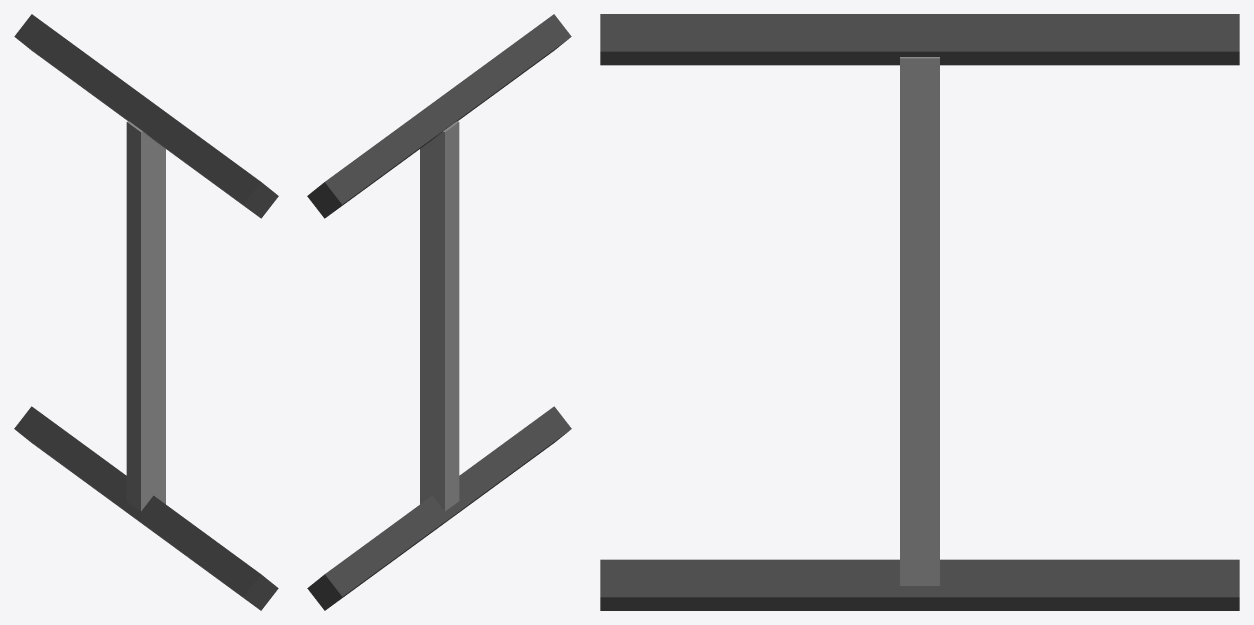
The model's file is testconnection.obj.
The picture shows the model from 3 angles, left to right: view 1: azimuth 30°, elevation 25°; view 2: azimuth 150°, elevation 25°; view 3: azimuth 270°, elevation 25°; orthographic projection. The views are drawn at different scales.
Parts seen in each view (by area): view 1: bar, high, low; view 2: bar, high, low; view 3: high, low, bar.
Part boxes in pixels (x1=…): bar: x1=126, y1=121, x2=165, y2=517; high: x1=14, y1=14, x2=278, y2=218; low: x1=14, y1=406, x2=278, y2=610; bar: x1=420, y1=121, x2=459, y2=517; high: x1=307, y1=14, x2=571, y2=218; low: x1=307, y1=406, x2=571, y2=610; high: x1=600, y1=14, x2=1239, y2=65; low: x1=600, y1=559, x2=1239, y2=610; bar: x1=900, y1=57, x2=939, y2=585.
Size of the model in its own units: 0.0888 by 1.03 by 1.
2 materials, 2 textured.
